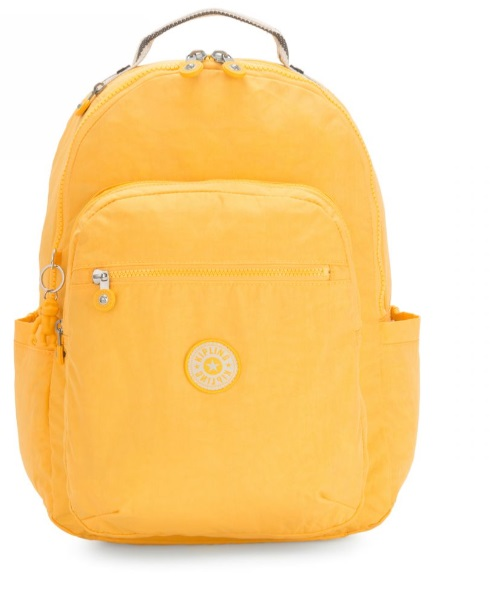Yellow: (14, 50, 426, 554)
